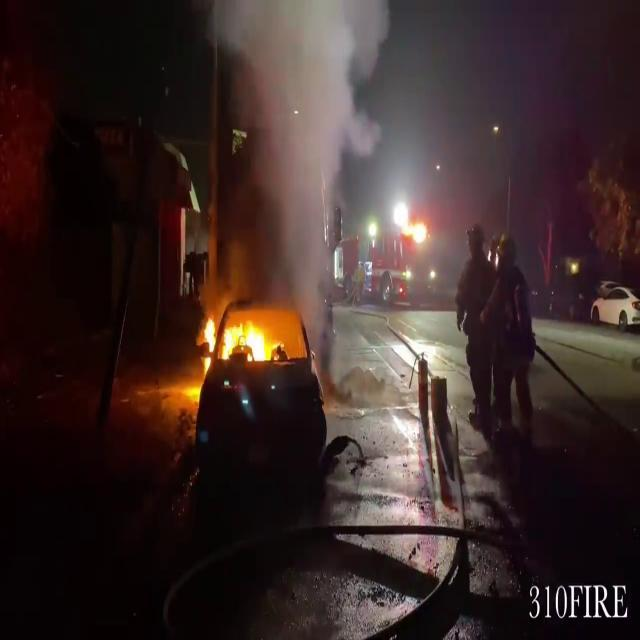Fire: (198, 297, 280, 372)
Smoke: (210, 0, 384, 320)
